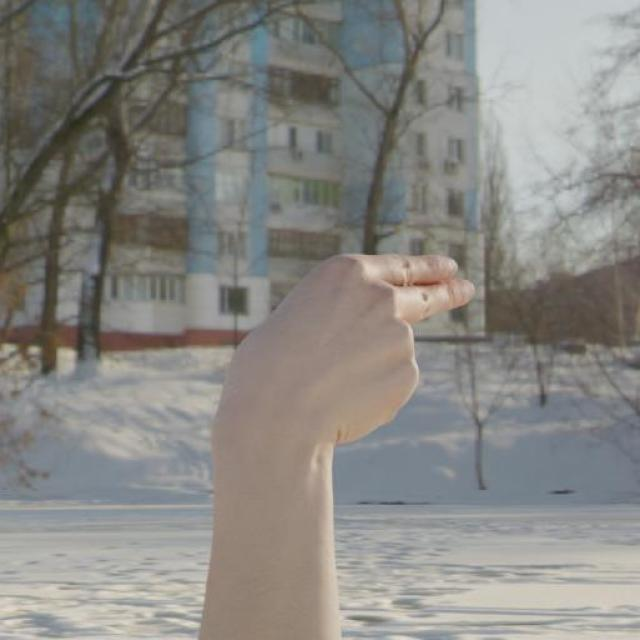H: (206, 240, 479, 524)
